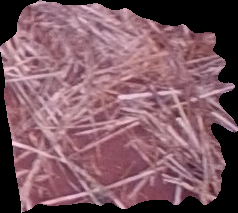soil: (2, 2, 236, 211)
